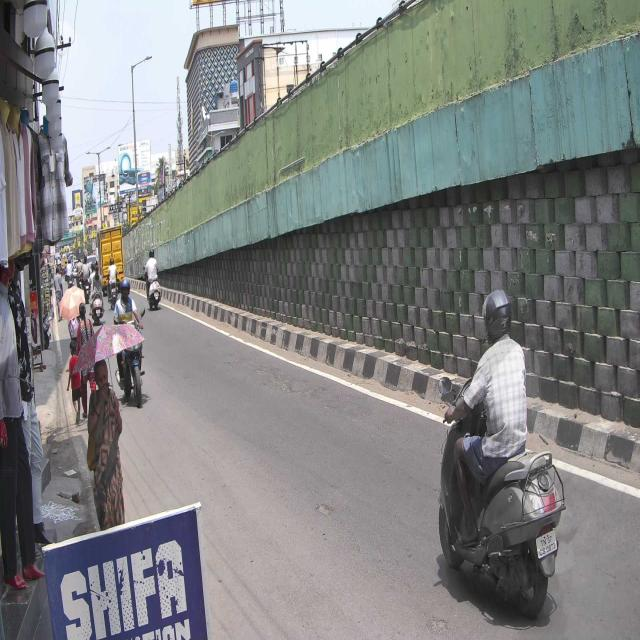single_rider: (437, 287, 566, 621)
